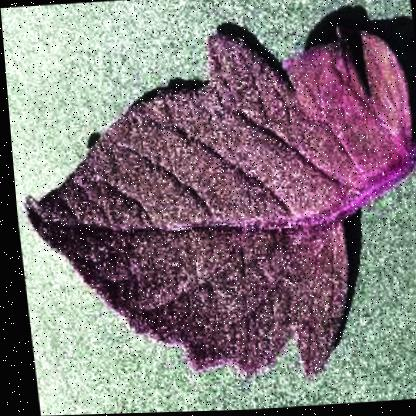Healthy: (0, 2, 415, 394)
